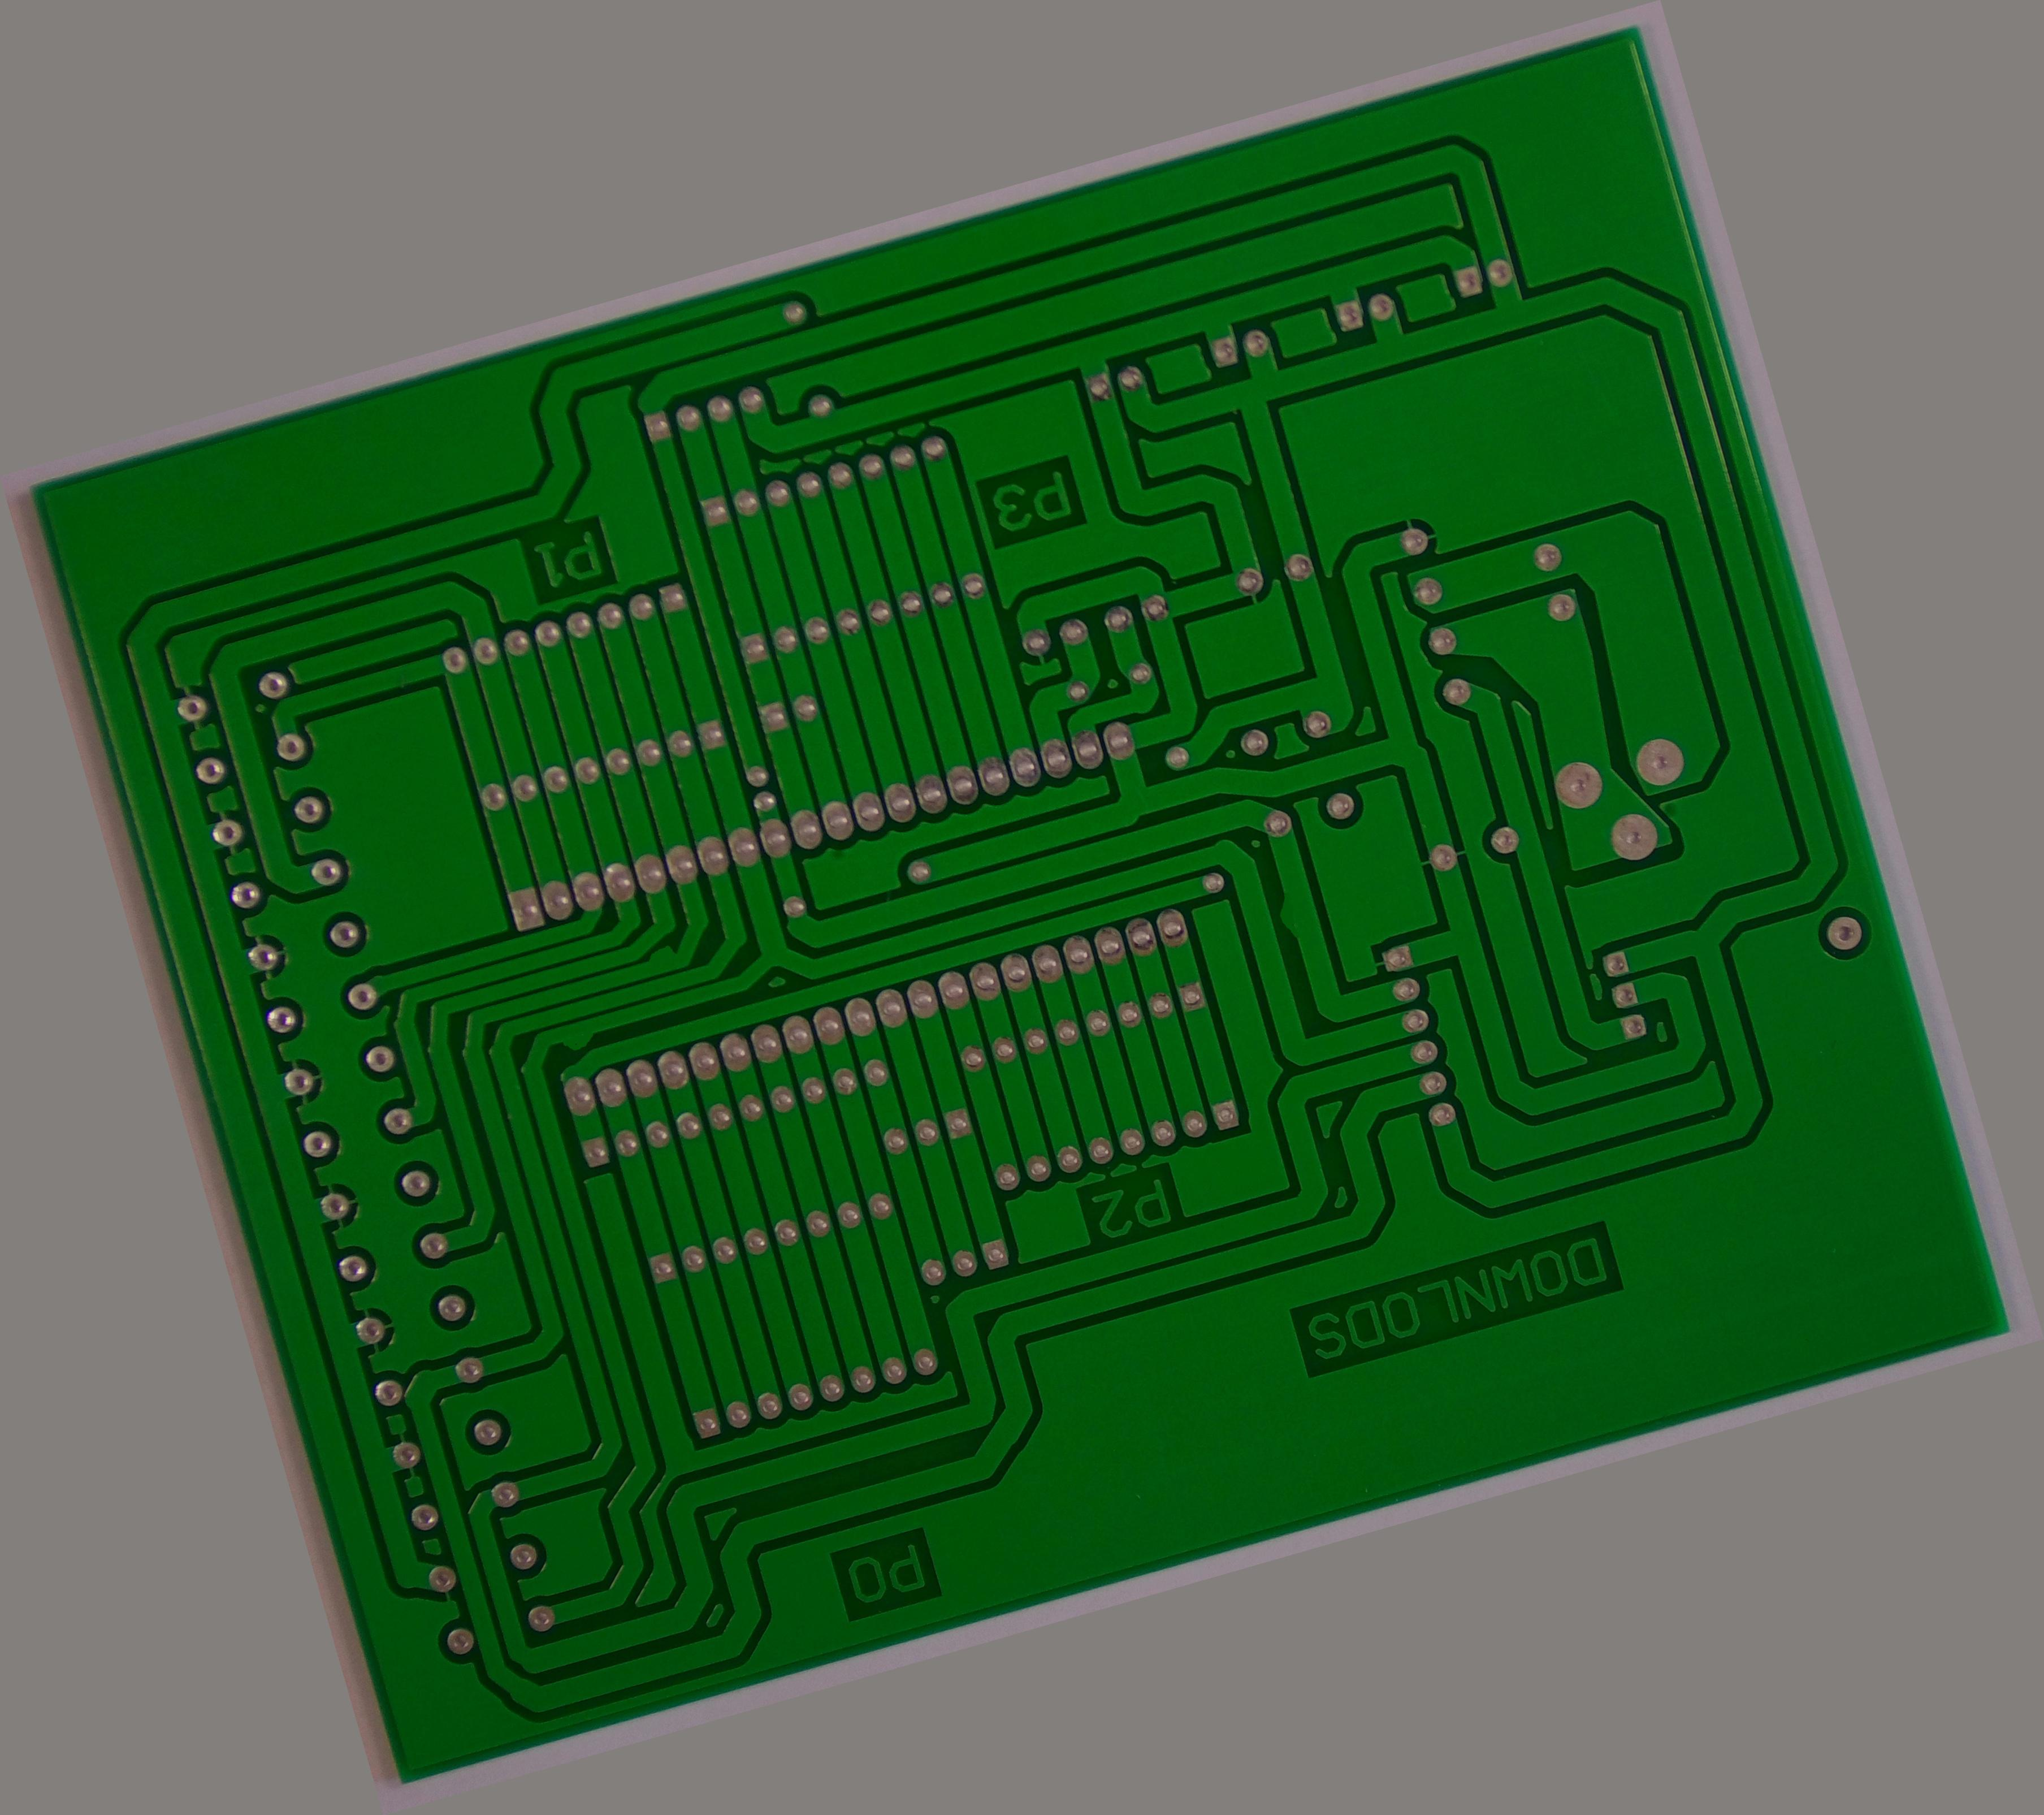spur: (1270, 883, 1314, 948), (546, 1020, 610, 1062), (639, 939, 685, 972)
